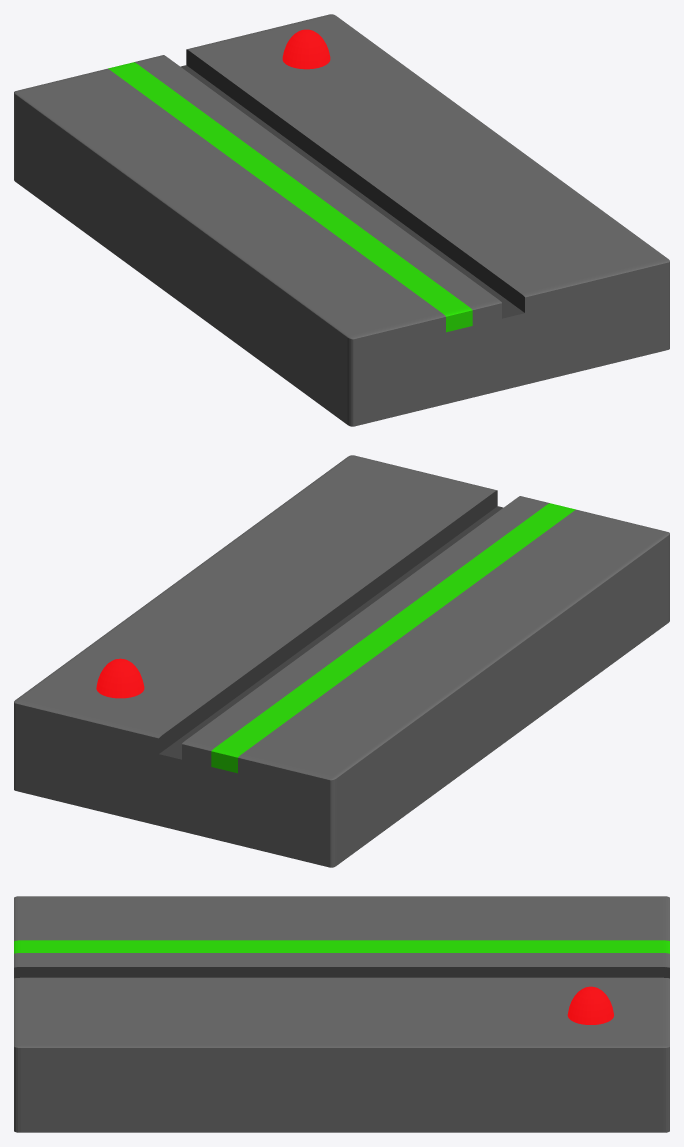
Rendered from GreenKeyCardScannerRL.glb.
3 renders of one model, top to bottom at view 1: azimuth 30°, elevation 25°; view 2: azimuth 150°, elevation 25°; view 3: azimuth 270°, elevation 25°, orthographic. The views are drawn at different scales.
Parts seen in each view (by area): view 1: Base, Light; view 2: Base, Light; view 3: Base, Light.
Boxes of the visible parts, x1,y1,x2,y2 form: Base: (14, 14, 669, 426); Light: (282, 29, 330, 69); Base: (14, 455, 669, 867); Light: (96, 658, 144, 698); Base: (14, 896, 669, 1132); Light: (567, 986, 613, 1024).
Size of the model in its own units: 0.055 by 0.0192 by 0.1006.
